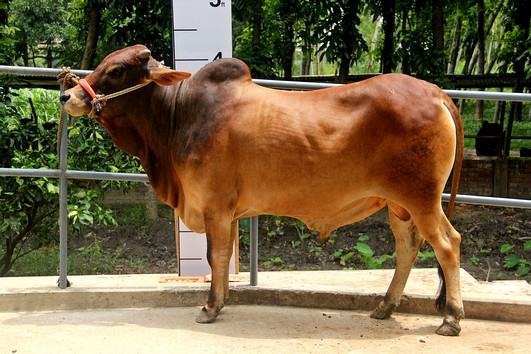cow: (57, 37, 469, 342)
